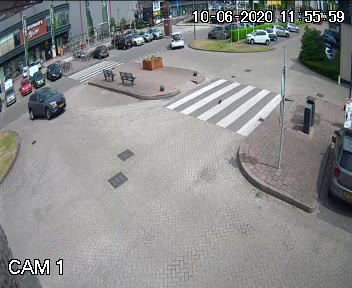car: (24, 81, 68, 118), (167, 31, 187, 48)
